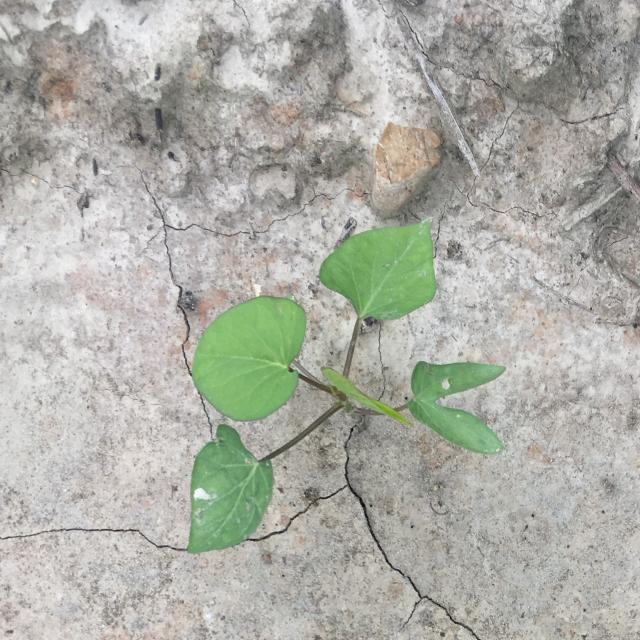MorningGlory: (187, 217, 506, 555)
